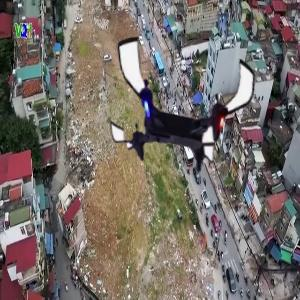drone: (106, 26, 263, 183)
